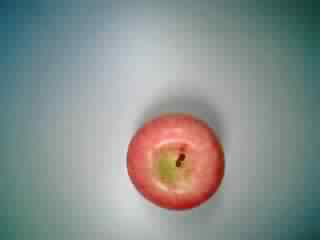apple: (122, 113, 228, 212)
